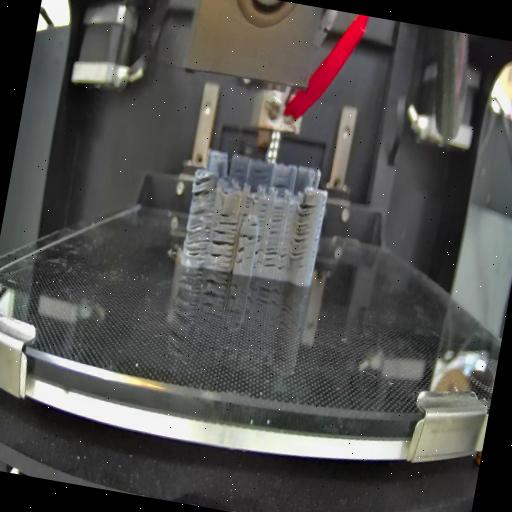cracks: (181, 206, 214, 260), (288, 200, 314, 264), (206, 226, 238, 264), (268, 202, 284, 238), (192, 174, 214, 200), (252, 232, 262, 274), (262, 246, 279, 270), (250, 166, 270, 184), (218, 212, 240, 228), (276, 248, 288, 272), (233, 246, 246, 266), (257, 200, 269, 220), (238, 230, 256, 242), (274, 181, 290, 191), (234, 166, 246, 176), (250, 219, 258, 228), (240, 212, 248, 220)
